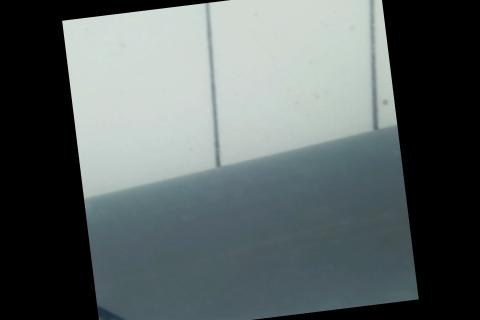keretakan: (94, 279, 158, 320)
